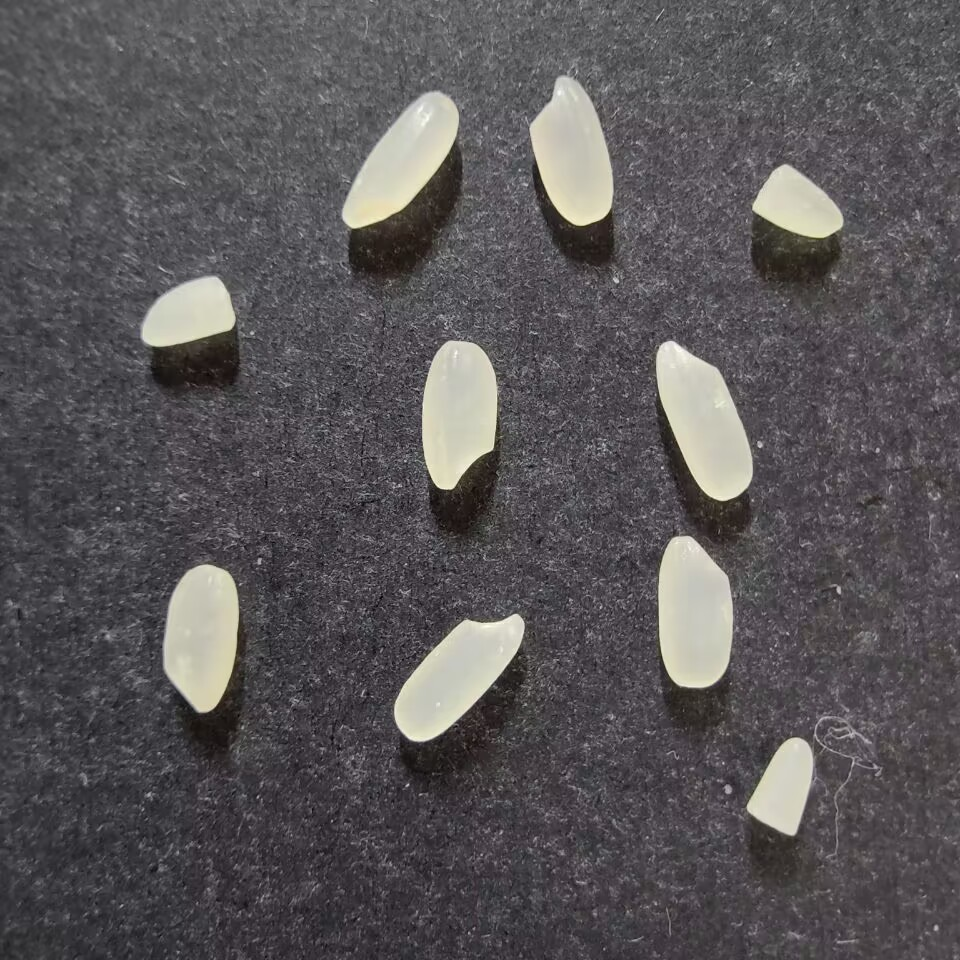broken: (751, 163, 843, 239), (745, 737, 814, 837), (140, 276, 235, 348)
rice: (393, 613, 525, 743), (341, 91, 459, 230), (655, 340, 753, 501), (527, 75, 614, 226), (420, 340, 498, 491), (657, 535, 733, 689), (162, 564, 239, 714)
